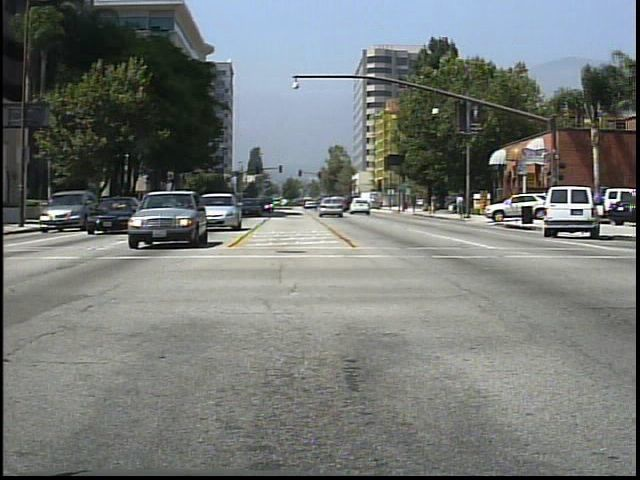person: (453, 189, 469, 221), (429, 191, 441, 215)
